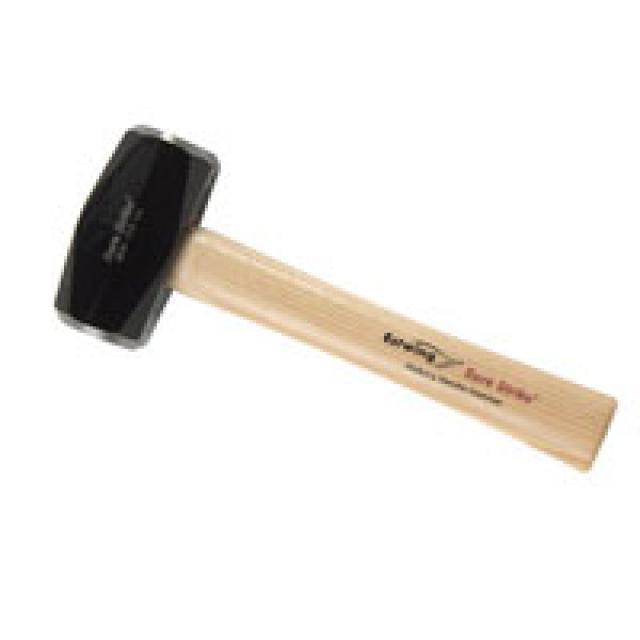hammer: (44, 117, 626, 492)
